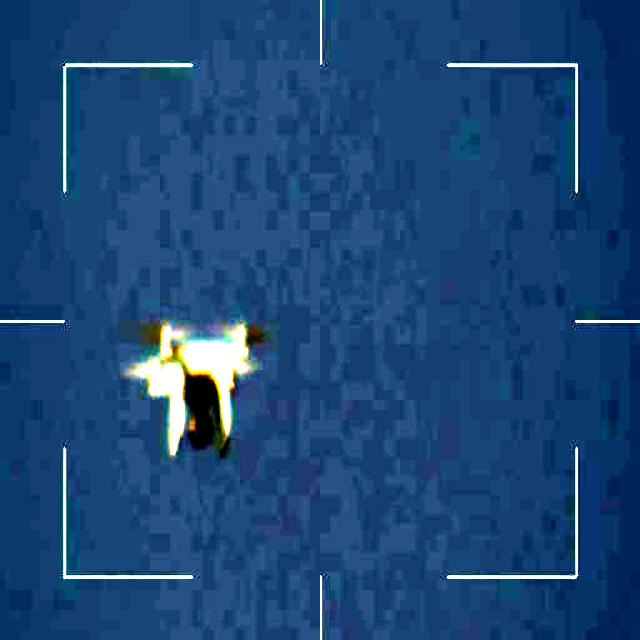bird: (124, 322, 264, 458)
